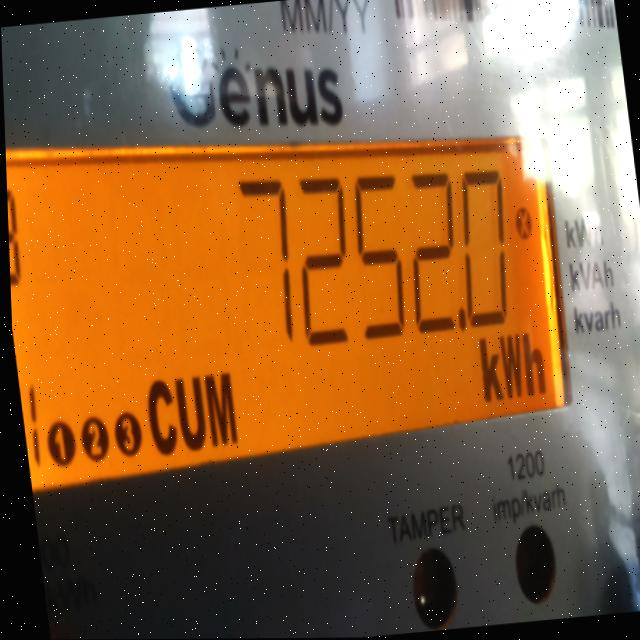.: (446, 304, 469, 341)
0: (449, 155, 519, 341)
2: (278, 162, 358, 357), (396, 160, 472, 342)
5: (337, 138, 416, 354)
7: (220, 163, 303, 371)
